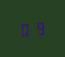nine: (32, 20, 44, 35)
zero: (19, 21, 31, 37)
